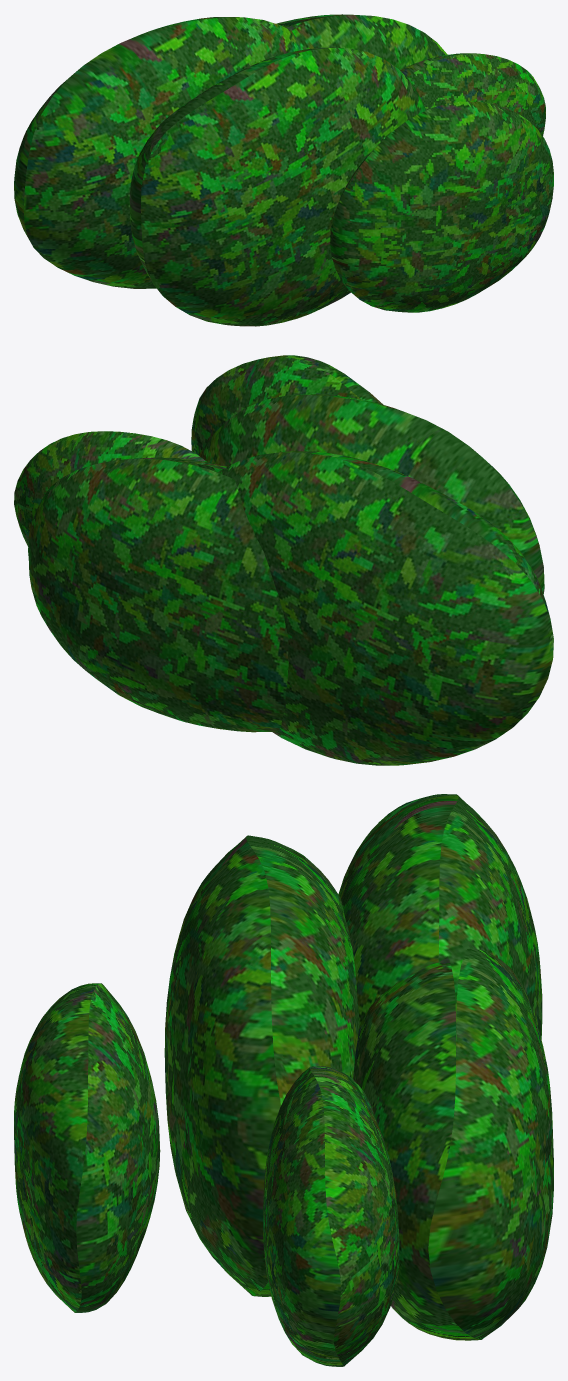
Rendered from plant_bushFern.glb.
The picture shows the model from 3 angles, top to bottom: view 1: azimuth 30°, elevation 25°; view 2: azimuth 150°, elevation 25°; view 3: azimuth 270°, elevation 25°; orthographic projection. The views are drawn at different scales.
Parts seen in each view (by area): view 1: Canopy_0; view 2: Canopy_0; view 3: Canopy_0.
Boxes of the visible parts, left/top/right/bottom form: Canopy_0: left=14, top=14, right=553, bottom=326; Canopy_0: left=14, top=355, right=553, bottom=765; Canopy_0: left=14, top=794, right=553, bottom=1366.
Size of the model in its own units: 1.68 by 0.8672 by 1.04.
Materials: 1 (1 with a texture image).
